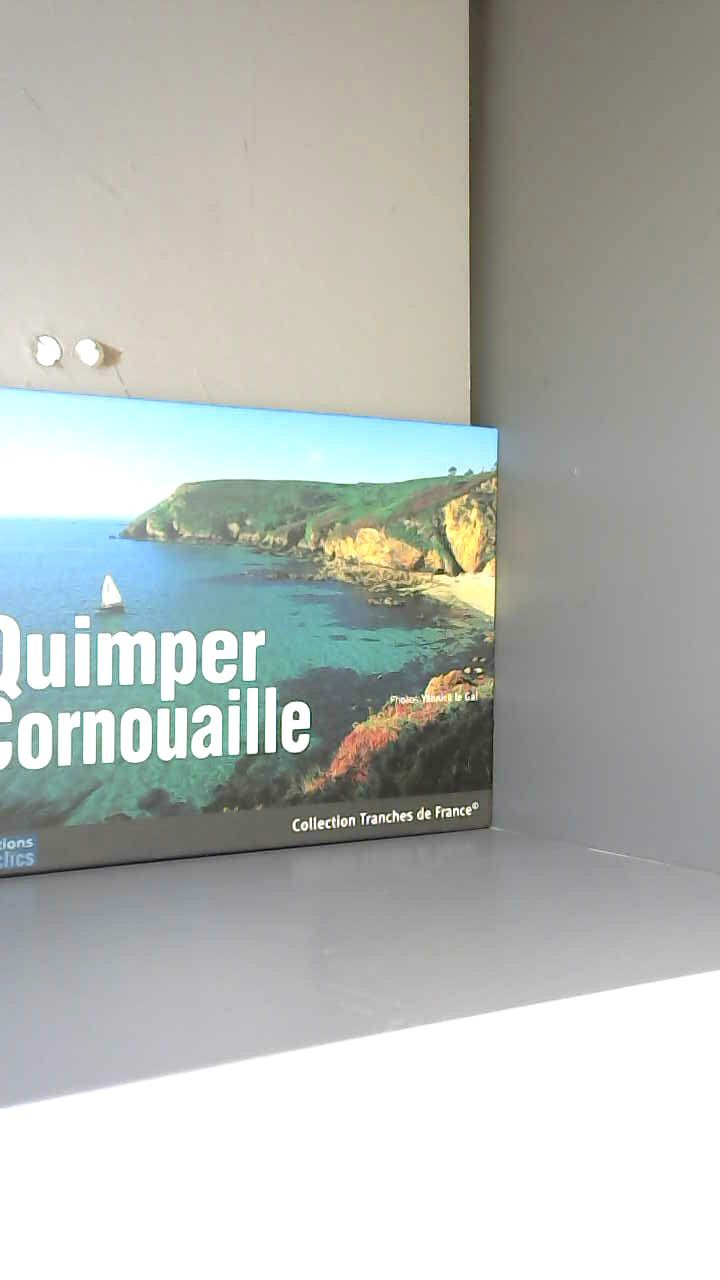book: (0, 356, 536, 910)
